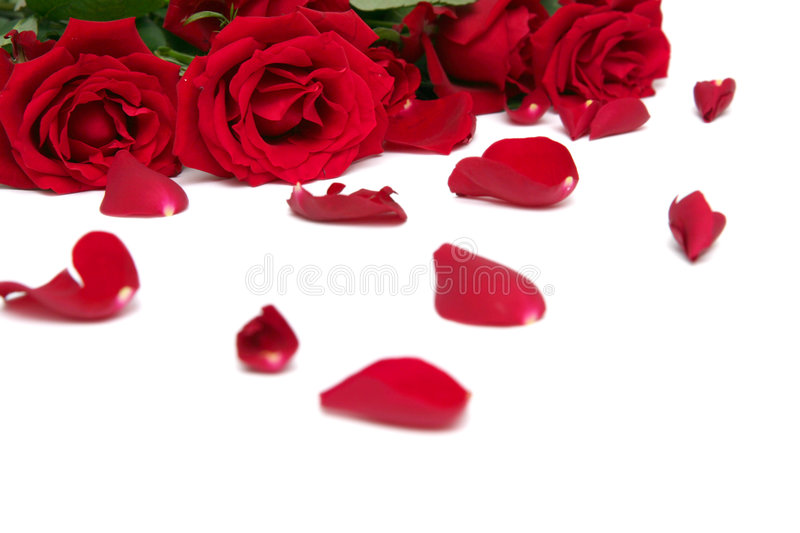RedRose: (179, 5, 401, 197), (1, 8, 195, 220), (536, 5, 676, 128)
